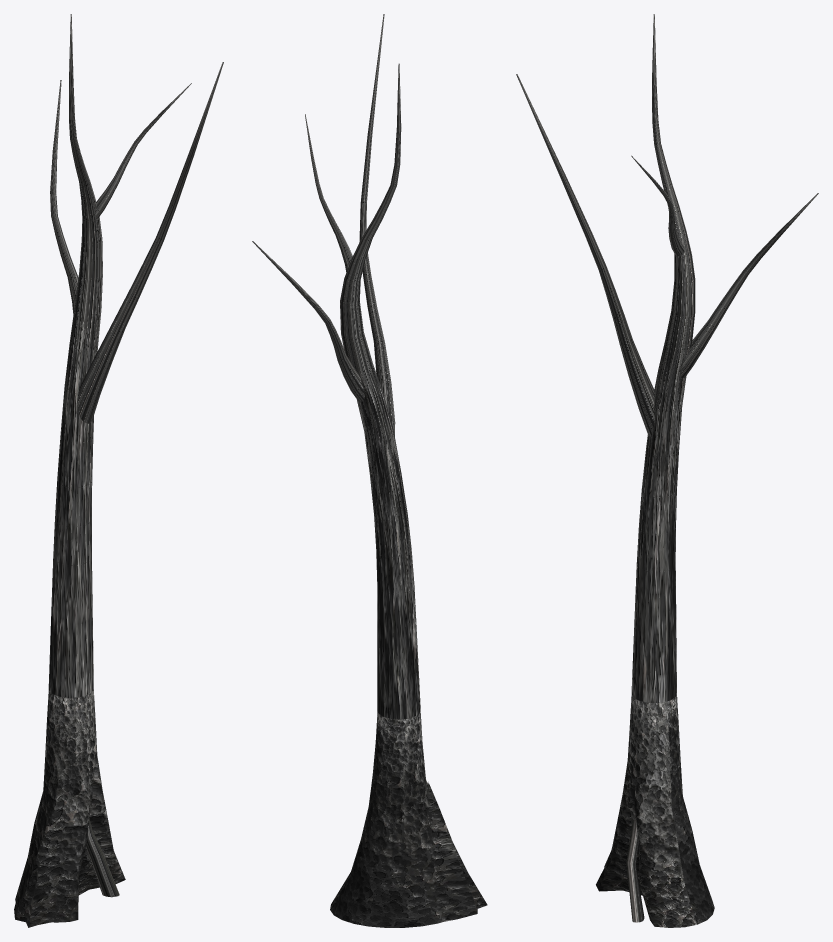
The model's file is Tree_00.fbx.
3 views of the same model, side by side, from view 1: azimuth 30°, elevation 25°; view 2: azimuth 150°, elevation 25°; view 3: azimuth 270°, elevation 25° (orthographic). The views are drawn at different scales.
Parts seen in each view (by area): view 1: Tree_Bottom_04; view 2: Tree_Bottom_04; view 3: Tree_Bottom_04.
Boxes of the visible parts, x1=… form: Tree_Bottom_04: x1=14, y1=14, x2=223, y2=927; Tree_Bottom_04: x1=252, y1=14, x2=487, y2=927; Tree_Bottom_04: x1=516, y1=14, x2=818, y2=927.
Bounding box in the file's own units: 2.28 × 10.8 × 3.32.
